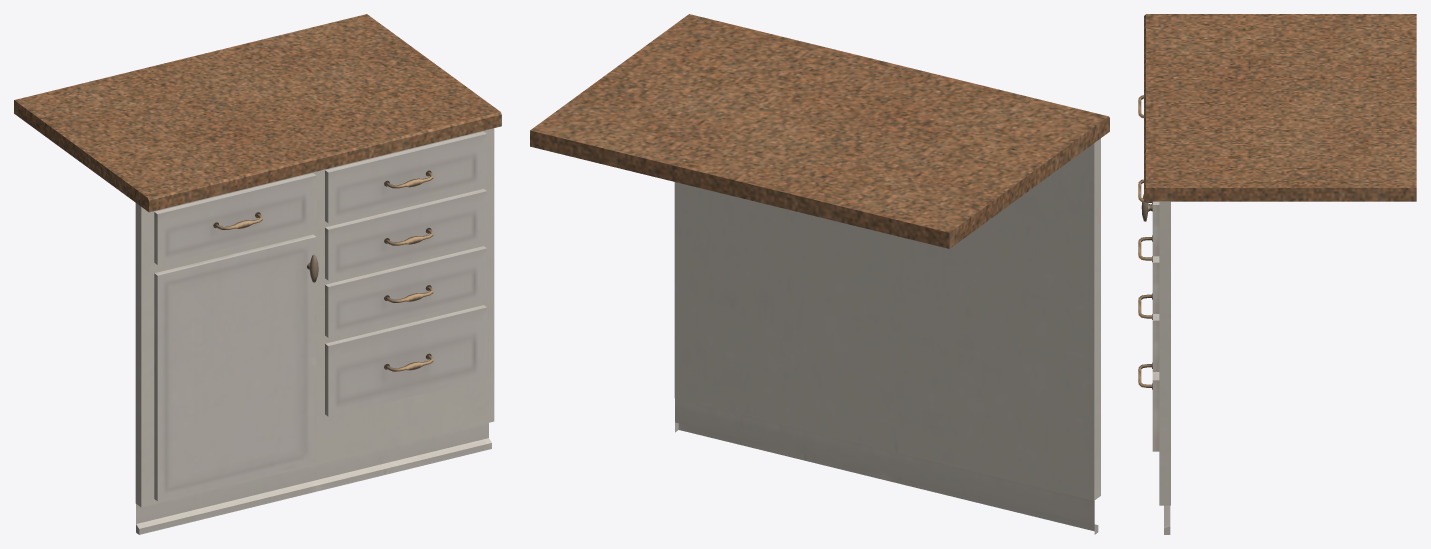
Rendered from KitCabinet_Lo_1x_A.FBX.
The picture shows the model from 3 angles, left to right: view 1: azimuth 30°, elevation 25°; view 2: azimuth 150°, elevation 25°; view 3: azimuth 270°, elevation 25°; orthographic projection. The views are drawn at different scales.
Visible parts, largest first — view 1: KitCabinet_Lo_1x_A; view 2: KitCabinet_Lo_1x_A; view 3: KitCabinet_Lo_1x_A.
Boxes of the visible parts, <box> form: KitCabinet_Lo_1x_A: <box>14,14,501,534</box>; KitCabinet_Lo_1x_A: <box>530,14,1109,534</box>; KitCabinet_Lo_1x_A: <box>1138,14,1416,534</box>.
Size of the model in its own units: 100 by 92.99 by 67.59.
